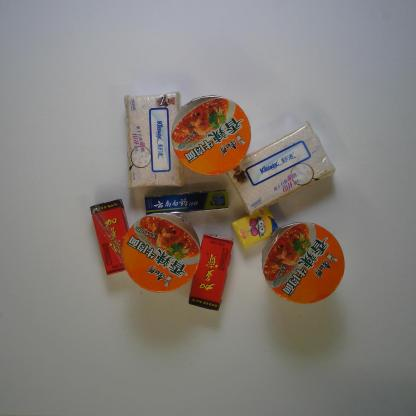Drink: (188, 232, 233, 311), (89, 198, 134, 276)
Instant Noodles: (262, 222, 346, 306), (170, 95, 251, 176), (122, 211, 201, 294)
Personal Hygiene: (144, 188, 228, 216)
Tissue: (226, 120, 337, 217), (123, 91, 187, 189), (230, 206, 279, 249)
